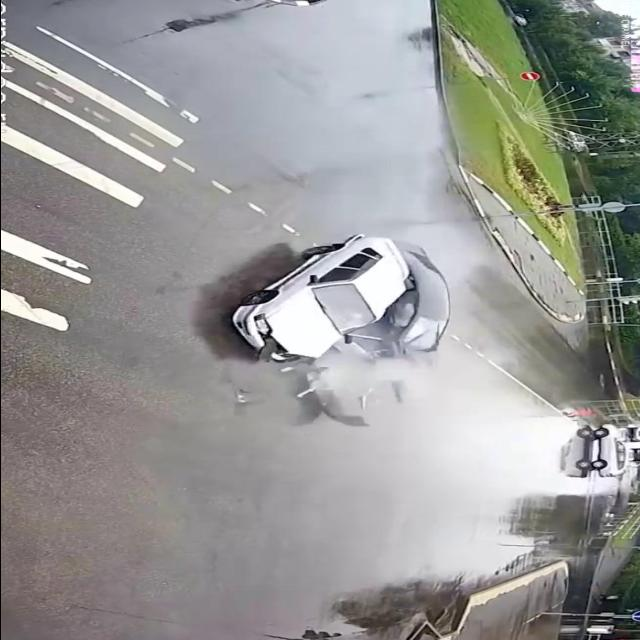accident: (218, 231, 458, 433)
